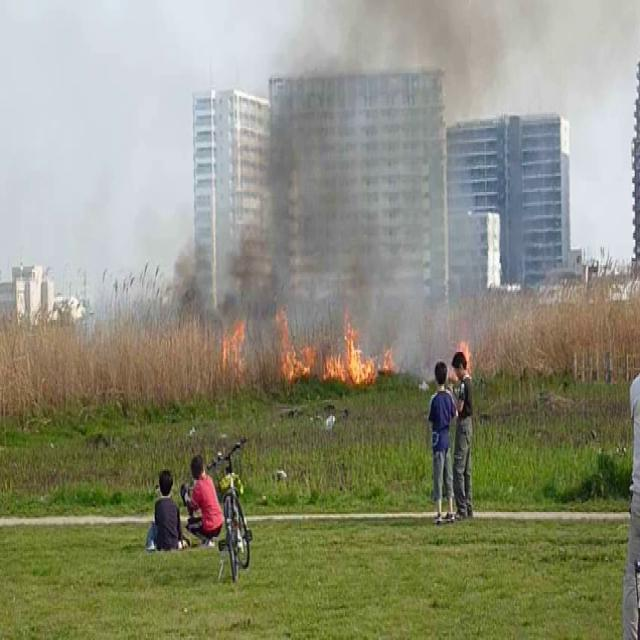Fire: (325, 318, 378, 393), (270, 310, 312, 385), (218, 306, 251, 378)
Smoke: (194, 2, 583, 342)
